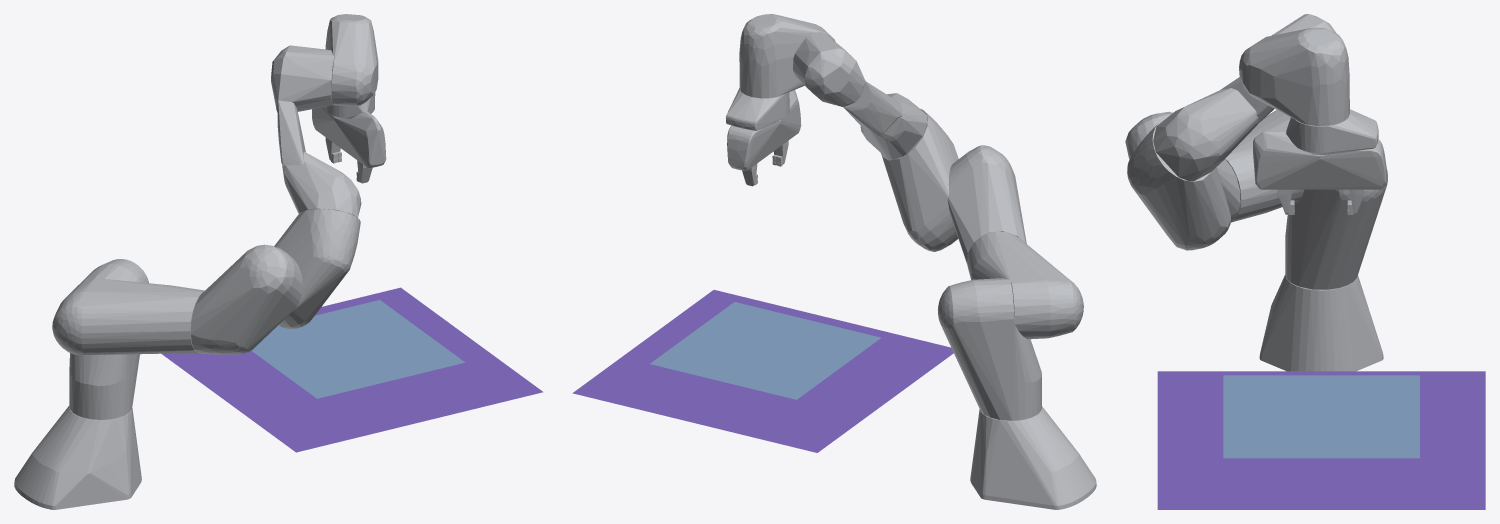
The model's file is ipc_cloth.glb.
The picture shows the model from 3 angles, left to right: view 1: azimuth 30°, elevation 25°; view 2: azimuth 150°, elevation 25°; view 3: azimuth 270°, elevation 25°; orthographic projection. The views are drawn at different scales.
Size of the model in its own units: 0.9041 by 0.7792 by 0.5491.
